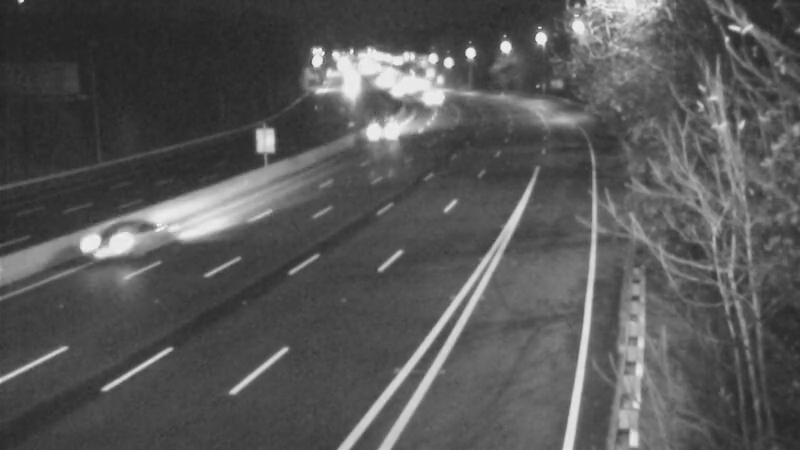vehicle: (70, 200, 150, 280), (408, 69, 458, 119), (359, 104, 409, 154)
